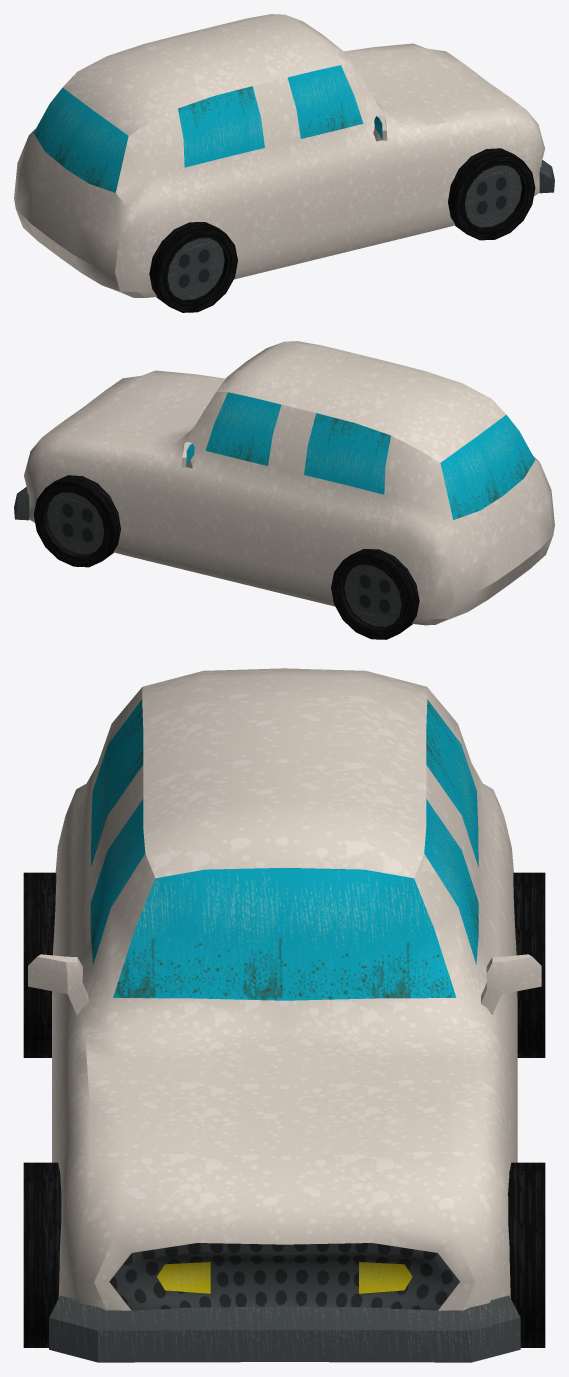
Rendered from Renault4L_1.fbx.
3 views of the same model, one above another, from view 1: azimuth 30°, elevation 25°; view 2: azimuth 150°, elevation 25°; view 3: azimuth 270°, elevation 25° (orthographic). The views are drawn at different scales.
Parts seen in each view (by area): view 1: Renault4L_1; view 2: Renault4L_1; view 3: Renault4L_1.
Boxes of the visible parts, box(x1,y1,x2,y2) form: Renault4L_1: box(14, 14, 554, 312); Renault4L_1: box(14, 341, 554, 639); Renault4L_1: box(23, 668, 545, 1362).
Size of the model in its own units: 430 by 177 by 212.
